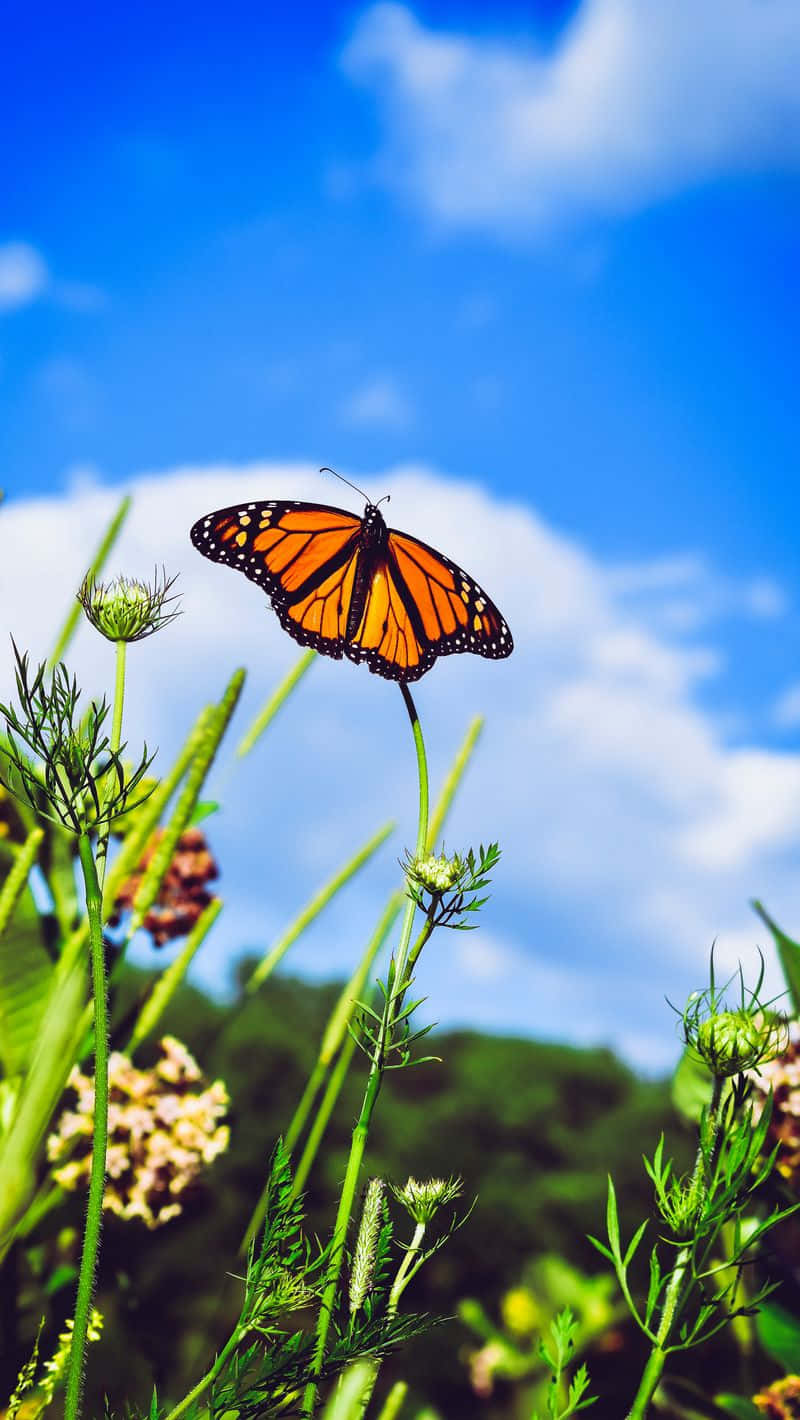Butterfly: (190, 496, 525, 693)
